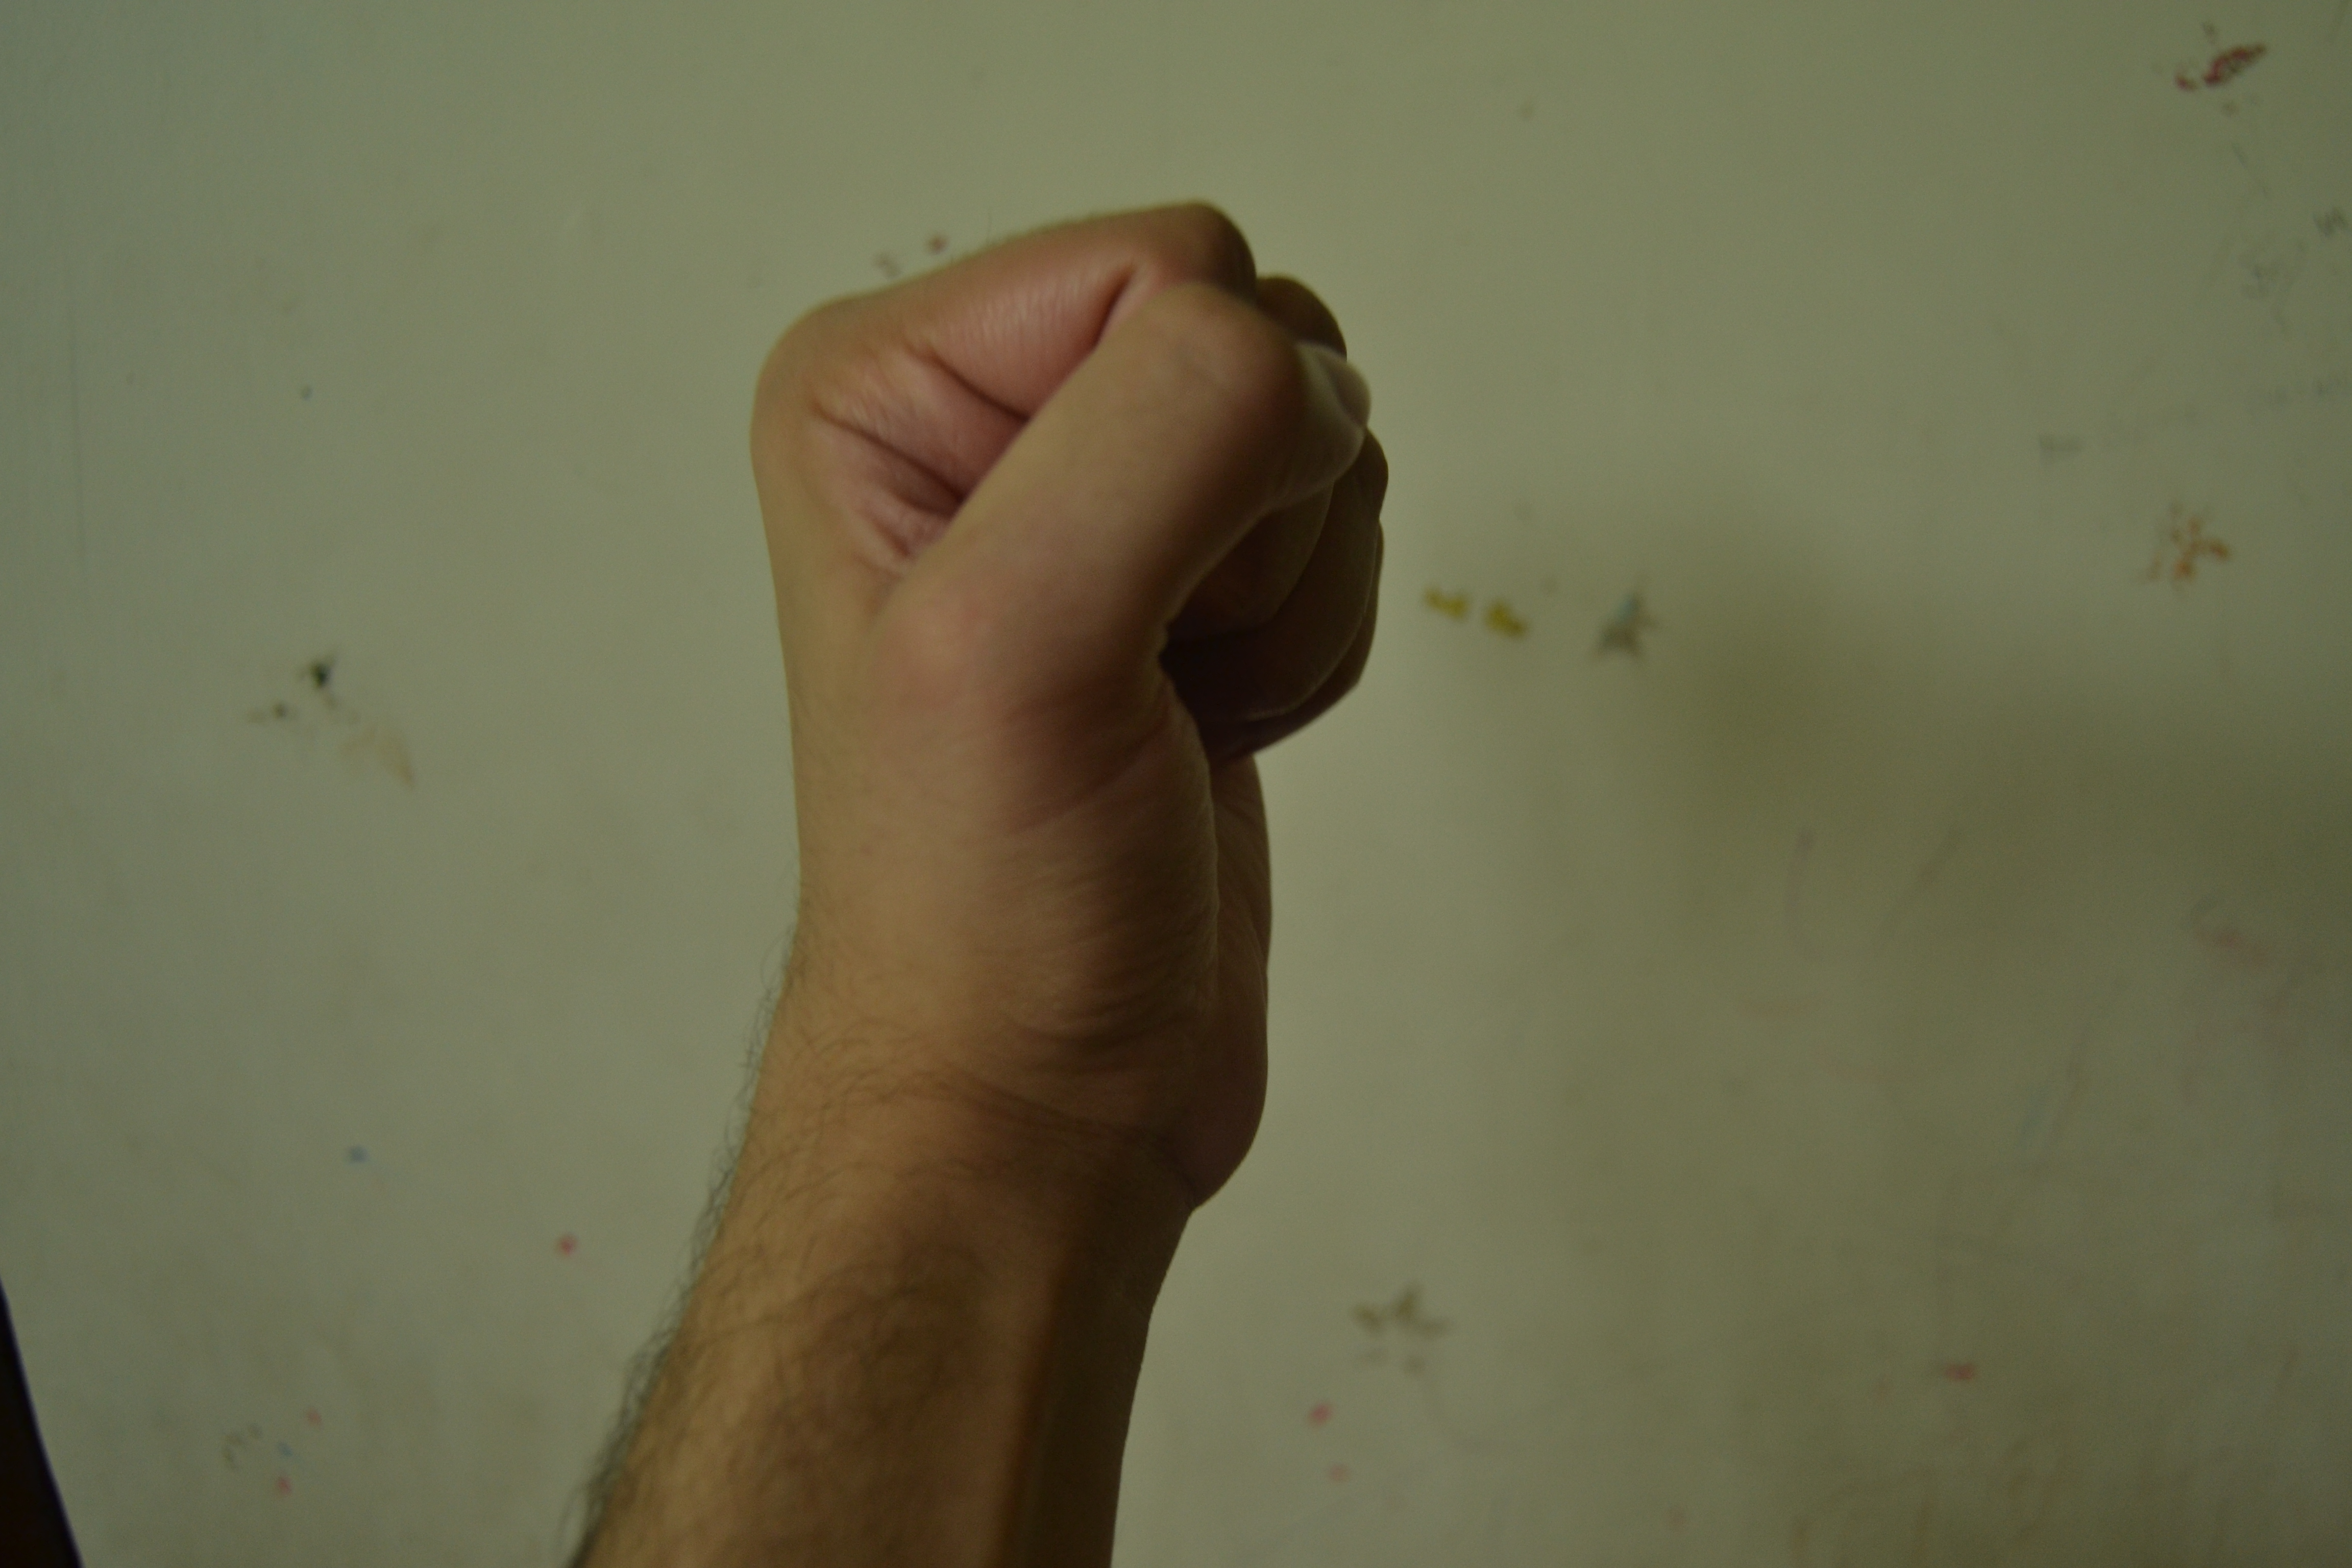click: (696, 180, 1451, 1241)
